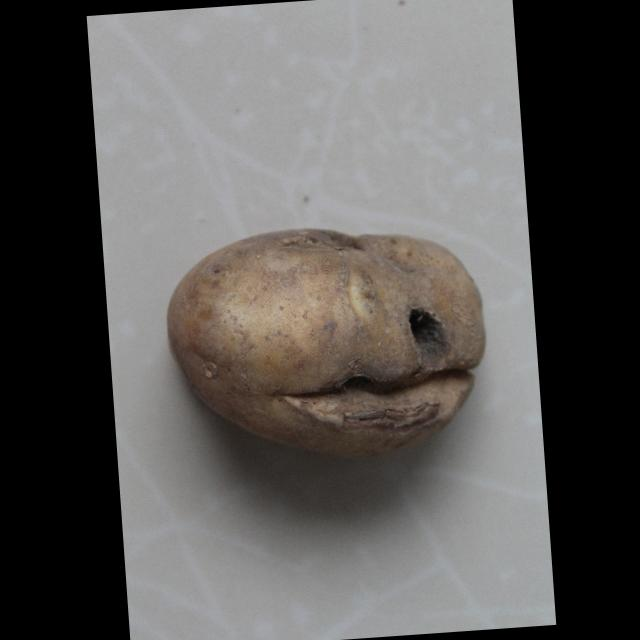Diseased-fungal potato: (146, 166, 483, 426)
